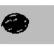correct: (1, 12, 30, 35)
